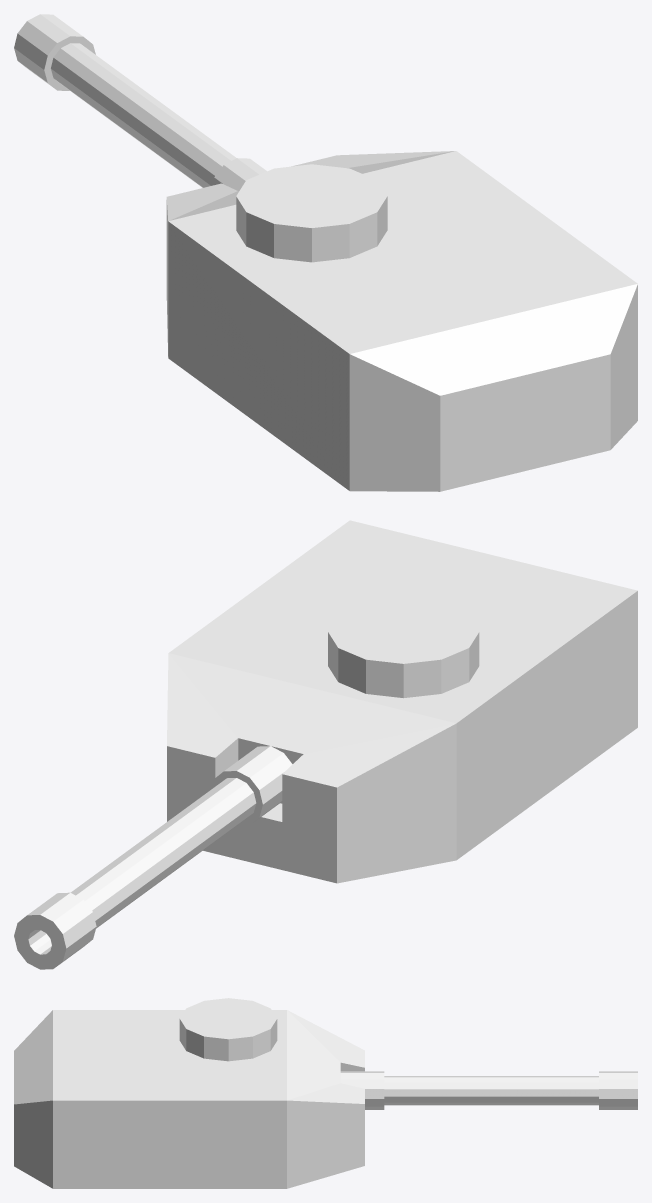
File: smoki.dae
3 views of the same model, one above another, from view 1: azimuth 30°, elevation 25°; view 2: azimuth 150°, elevation 25°; view 3: azimuth 270°, elevation 25° (orthographic). The views are drawn at different scales.
Parts seen in each view (by area): view 1: main, tube; view 2: main, tube; view 3: main, tube.
Boxes of the visible parts, x1,y1,x2,y2 form: main: (166, 151, 637, 491); tube: (14, 14, 266, 190); main: (167, 520, 637, 883); tube: (14, 746, 292, 969); main: (14, 998, 364, 1188); tube: (340, 1071, 637, 1109).
Bounding box in the file's own units: 0.6875 × 0.3906 × 2.
1 material, 1 textured.
